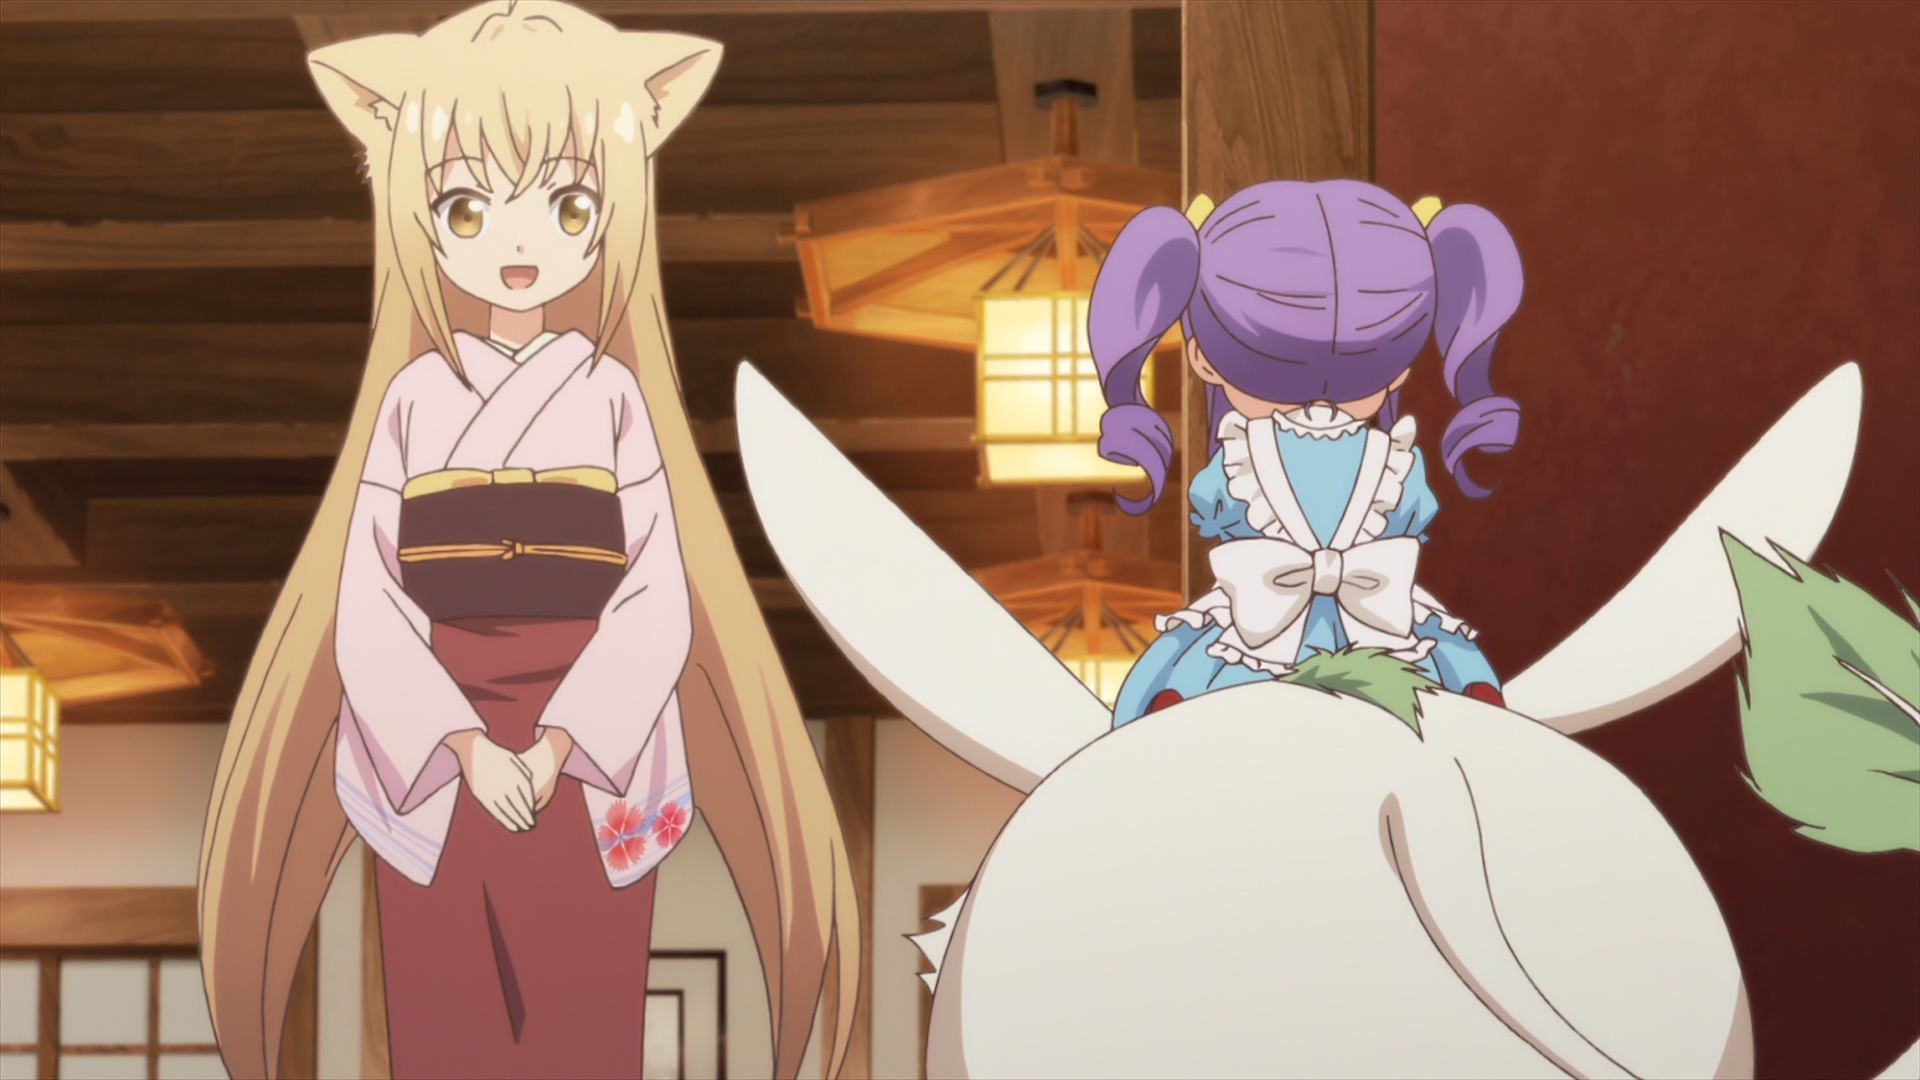柚: (196, 1, 856, 1080)
瓜之介: (733, 359, 1920, 1080)
阿菊: (1087, 177, 1524, 727)
